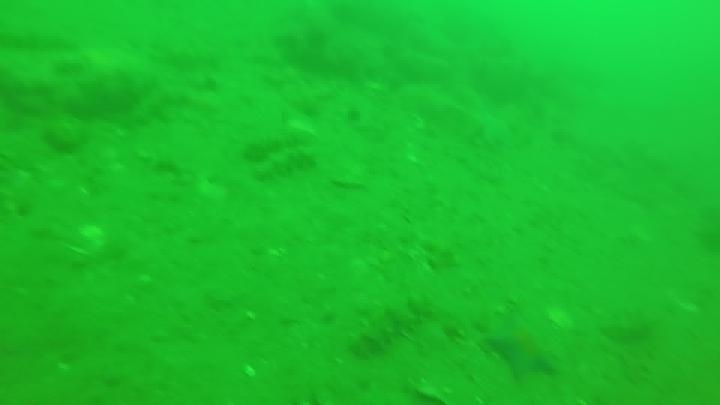holothurian: (346, 294, 433, 360), (252, 146, 318, 183), (242, 131, 313, 165)
starfish: (484, 312, 560, 382)
